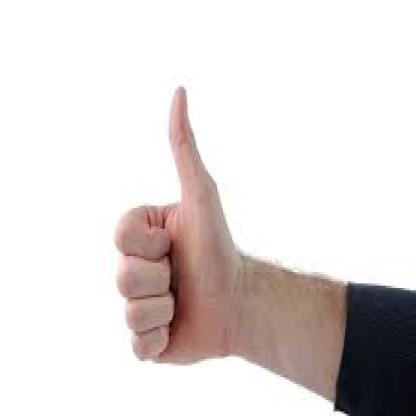thumb_up: (112, 82, 242, 373)
